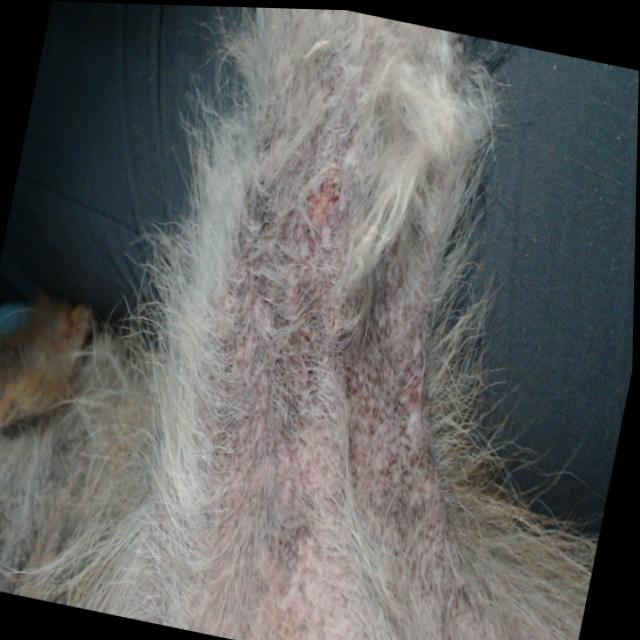demodicosis: (225, 149, 430, 461)
